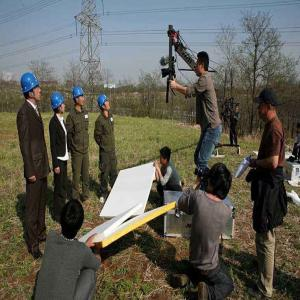blue: (21, 71, 42, 105), (51, 93, 67, 116), (73, 84, 87, 109), (98, 94, 111, 115)
none: (60, 198, 87, 242), (205, 163, 233, 203), (256, 85, 279, 125), (159, 146, 173, 168)
